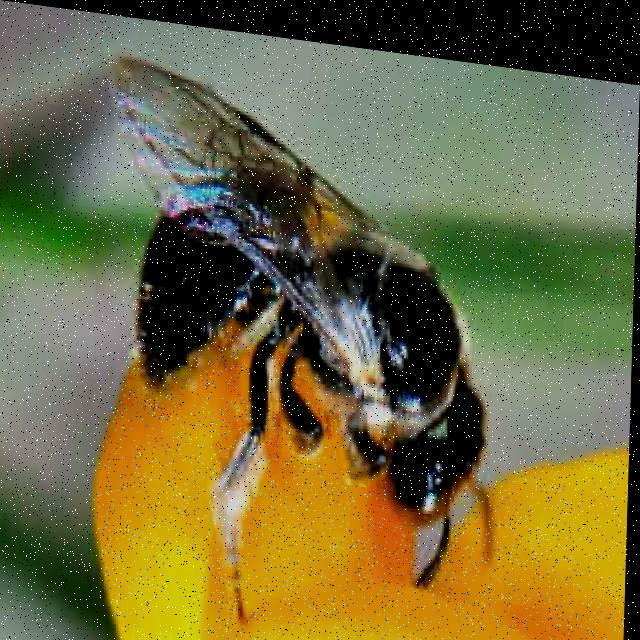Braunsapis: (107, 32, 506, 596)
